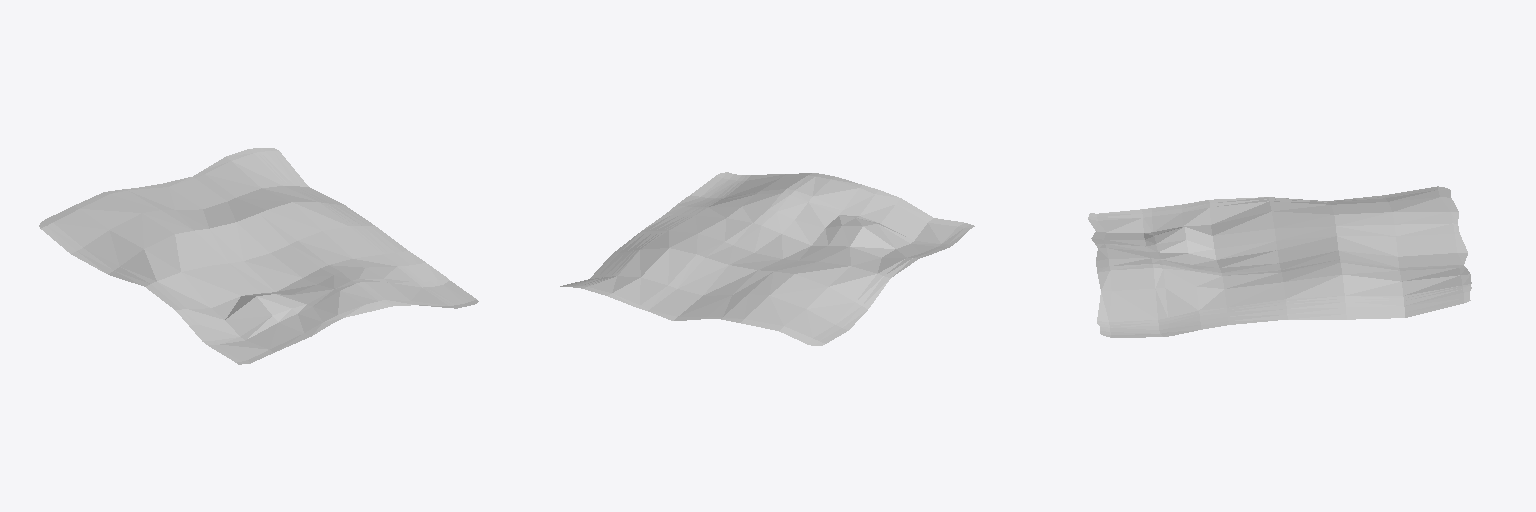
File: PaperNote2.obj
The picture shows the model from 3 angles: view 1: azimuth 30°, elevation 25°; view 2: azimuth 150°, elevation 25°; view 3: azimuth 270°, elevation 25°; orthographic projection.
Parts seen in each view (by area): view 1: PaperNote; view 2: PaperNote; view 3: PaperNote.
Boxes of the visible parts, x1=… form: PaperNote: x1=39, y1=148, x2=478, y2=364; PaperNote: x1=560, y1=172, x2=974, y2=345; PaperNote: x1=1088, y1=186, x2=1471, y2=337.
Size of the model in its own units: 50.82 by 5.6 by 61.93.